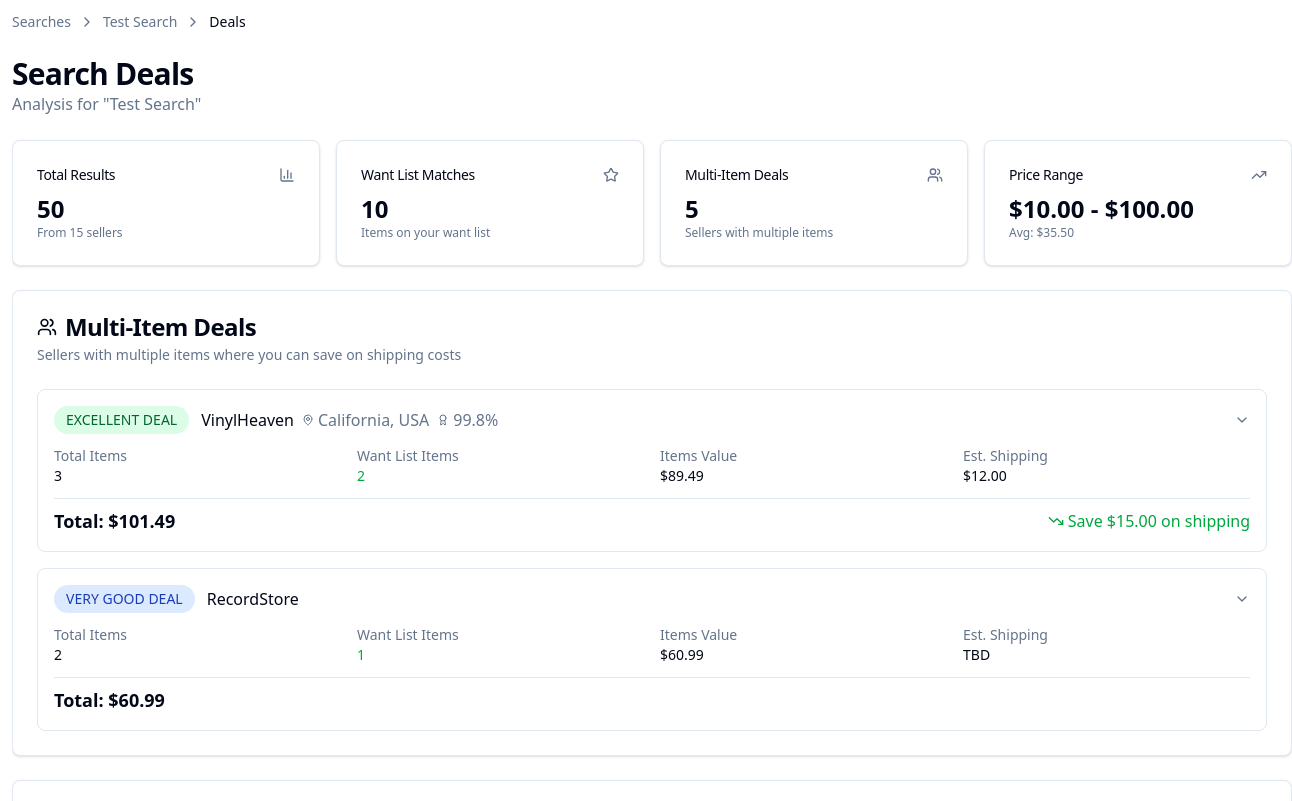
Scenario: SearchDealsPage › Edge Cases › should display loading message when expanding deal with no loaded items
The width and height of the screenshot is (1292, 801).
Expected: the text "EXCELLENT DEAL" is shown, [54,406,189,434]
Click the element with class "cursor-pointer" that starts with "EXCELLENT" at [652, 470], box [38,390,1266,551]
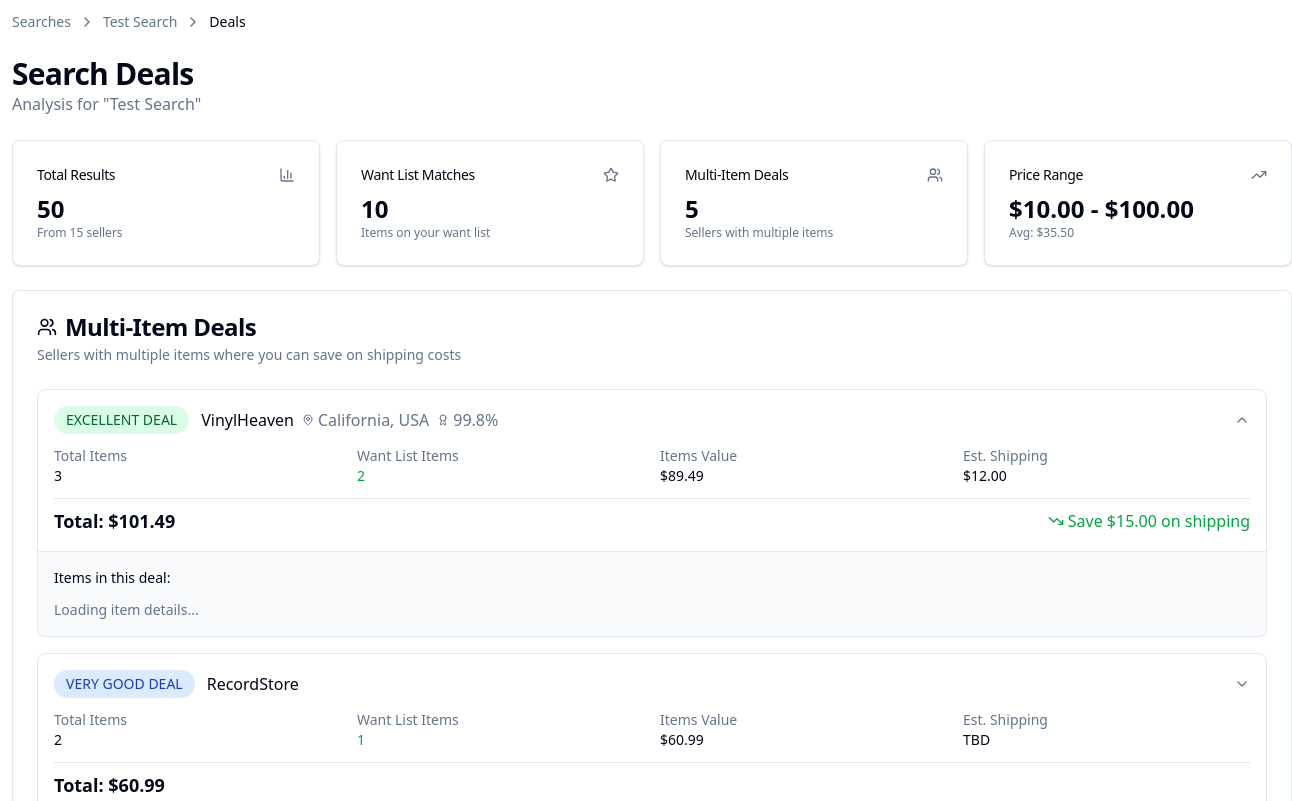
Now the text "Loading item details..." is shown, box [54,600,199,619]
